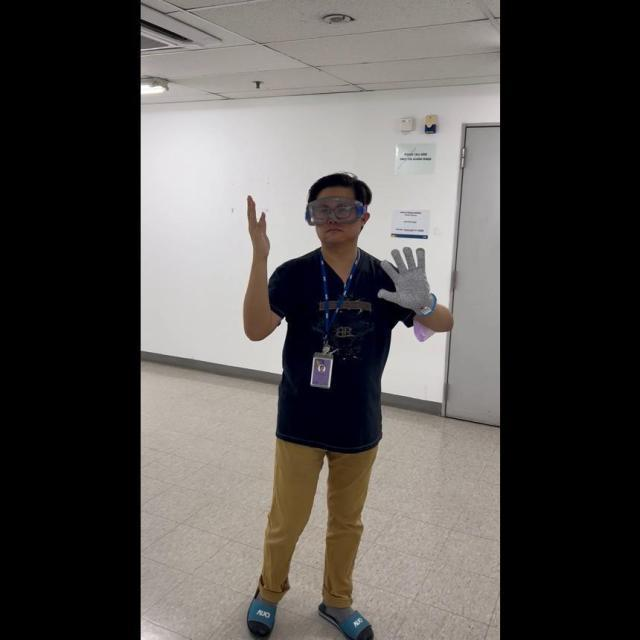bare_hand: (243, 190, 270, 262)
gloved_hand: (375, 243, 438, 316)
